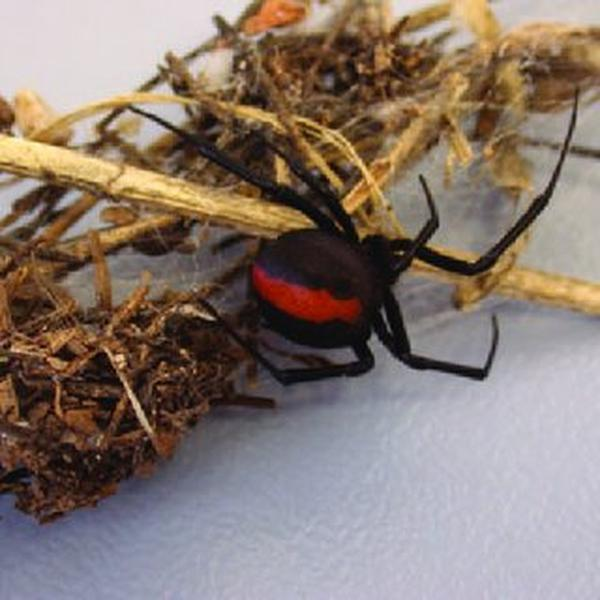Redback_Spider: (127, 91, 581, 387)
